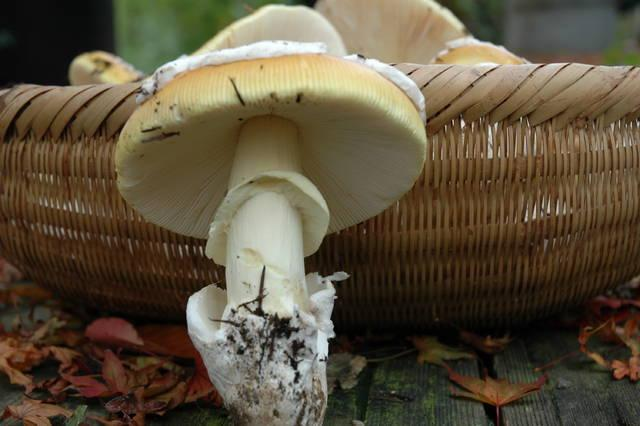Edible Mushroom: (112, 39, 428, 424)
